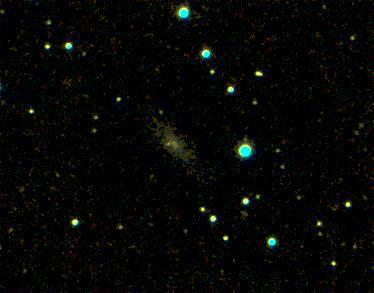star: (310, 0, 340, 18)
